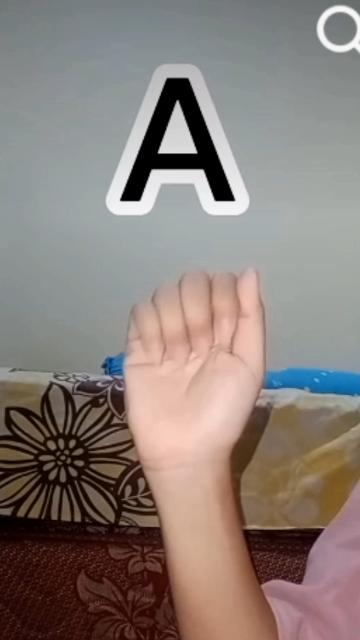A: (109, 264, 279, 491)
